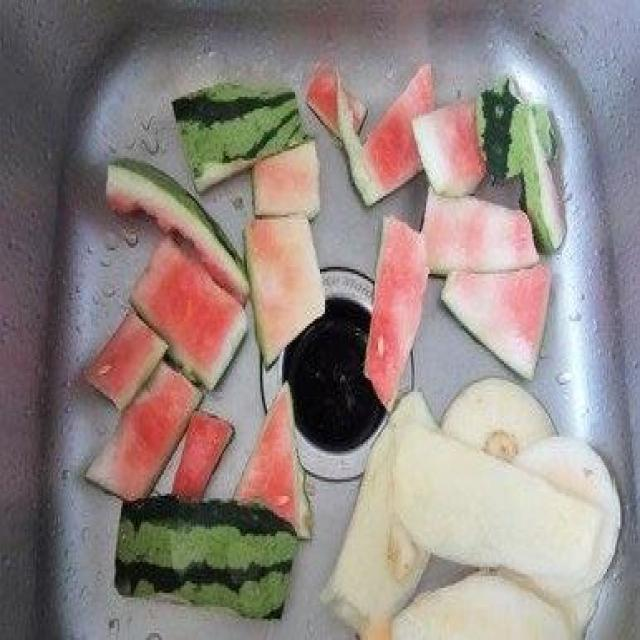Wet Waste: (78, 54, 622, 638)
